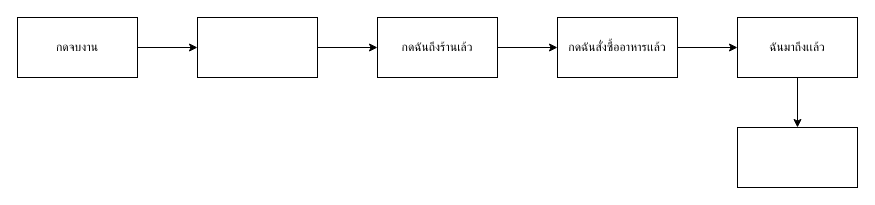
This 875x205 diagram has some shape labels left out. Each missing label, with the centre of its shape:
กดรับงาน: the point at 257,47
จัดส่งอาหารเรียบร้อย: the point at 797,157
